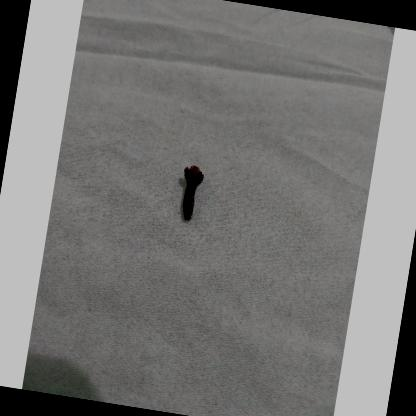sedang: (180, 166, 204, 223)
